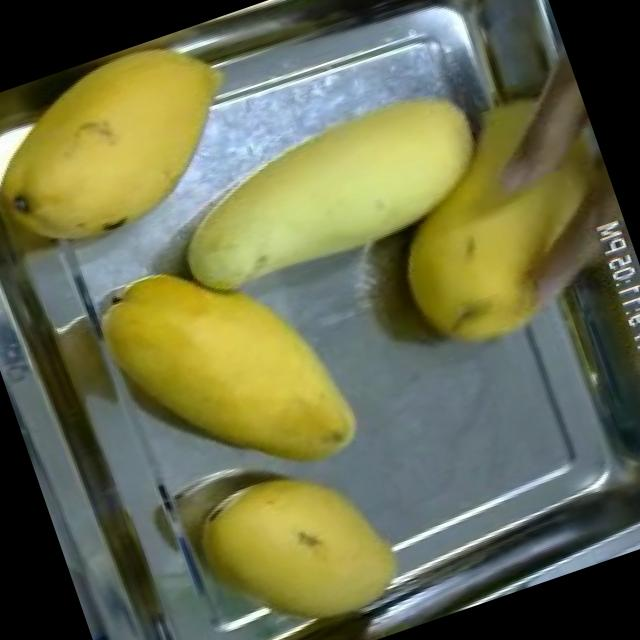fruit: (131, 26, 538, 333), (77, 217, 374, 528), (343, 70, 640, 380), (0, 21, 263, 277), (167, 436, 414, 640)
